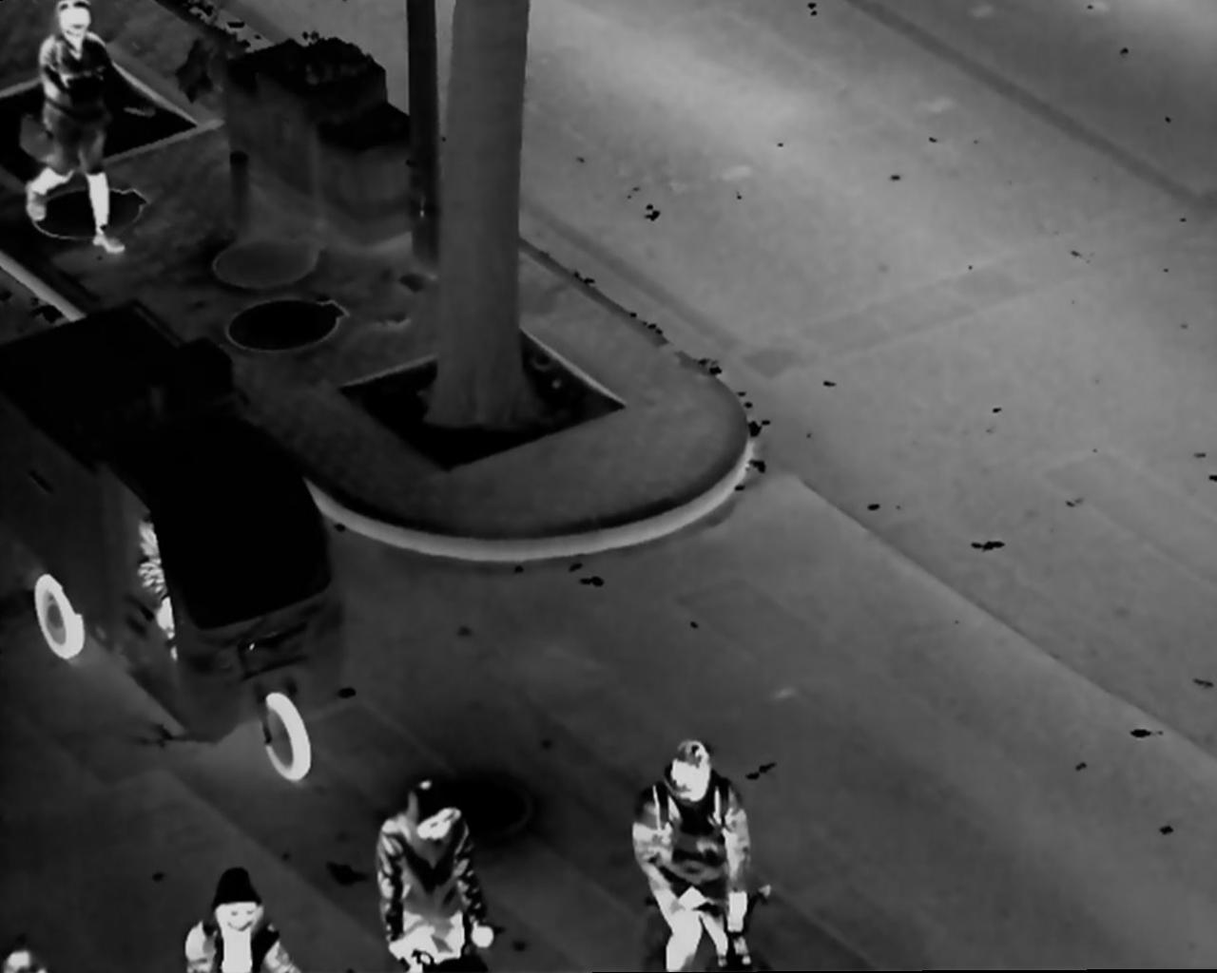person: (626, 735, 761, 973), (363, 770, 500, 971), (175, 860, 303, 973)
